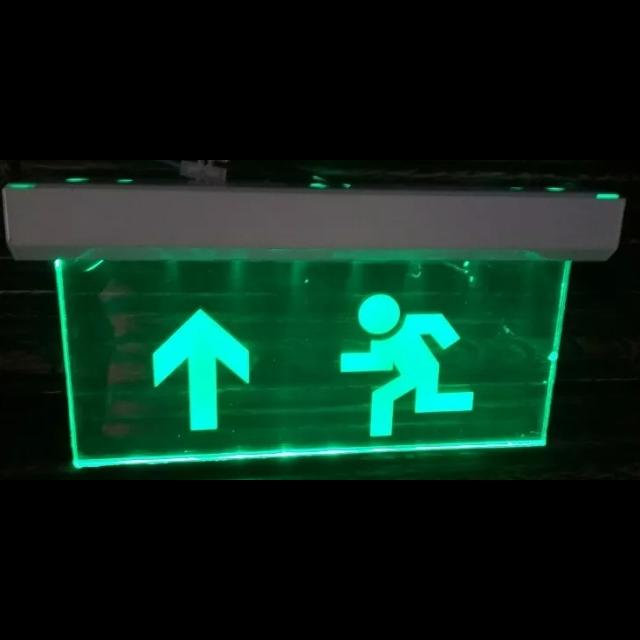exit: (3, 181, 623, 468)
